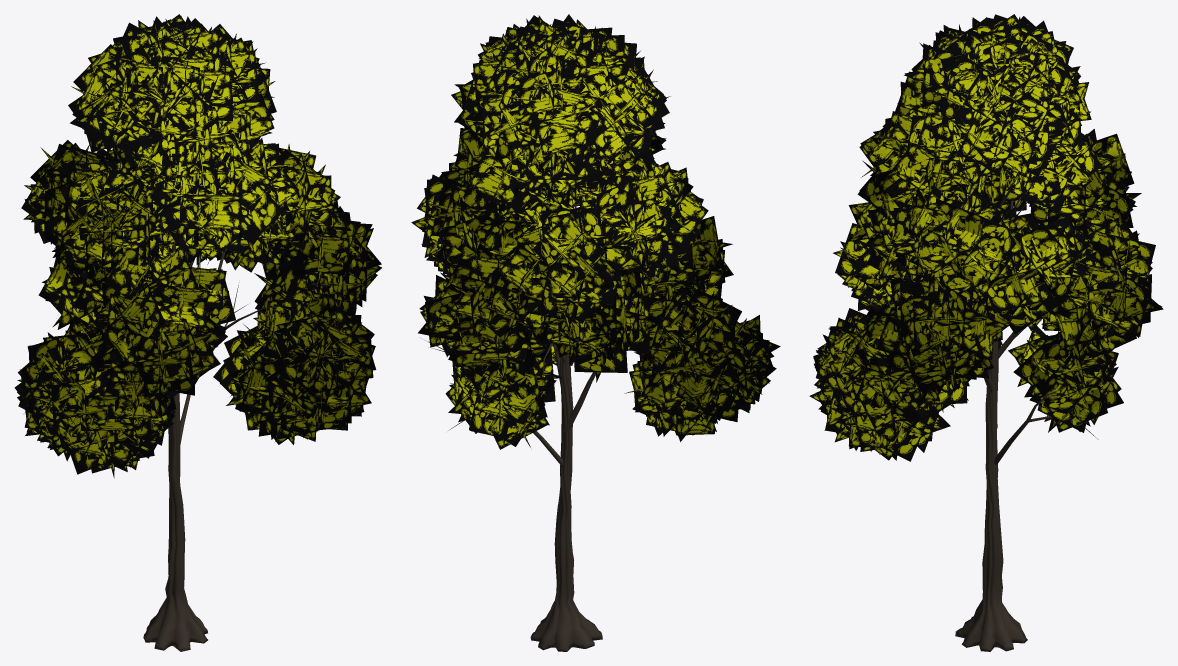
Rendered from Tree6.glb.
3 views of the same model, side by side, from view 1: azimuth 30°, elevation 25°; view 2: azimuth 150°, elevation 25°; view 3: azimuth 270°, elevation 25° (orthographic).
Parts seen in each view (by area): view 1: Birch_Tree 3_Leaves_LOD0, Dead_Tree_7_LOD0; view 2: Birch_Tree 3_Leaves_LOD0, Dead_Tree_7_LOD0; view 3: Birch_Tree 3_Leaves_LOD0, Dead_Tree_7_LOD0.
Part boxes in pixels (x1,y1,x2,y2): Birch_Tree 3_Leaves_LOD0: (14, 14, 381, 478); Dead_Tree_7_LOD0: (114, 147, 287, 651); Birch_Tree 3_Leaves_LOD0: (411, 14, 780, 449); Dead_Tree_7_LOD0: (427, 165, 602, 651); Birch_Tree 3_Leaves_LOD0: (809, 14, 1163, 461); Dead_Tree_7_LOD0: (955, 173, 1098, 651).
Bounding box in the file's own units: 5.28 × 8.83 × 4.59.
Materials: 2 (2 with a texture image).
